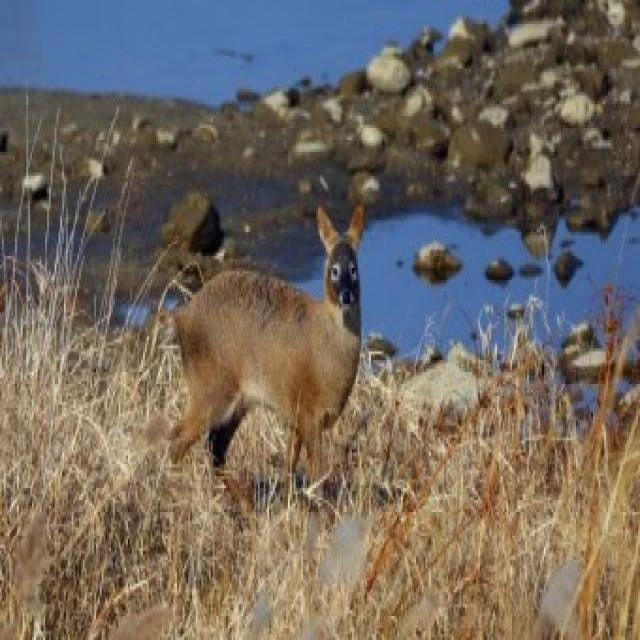deer: (142, 197, 380, 534)
